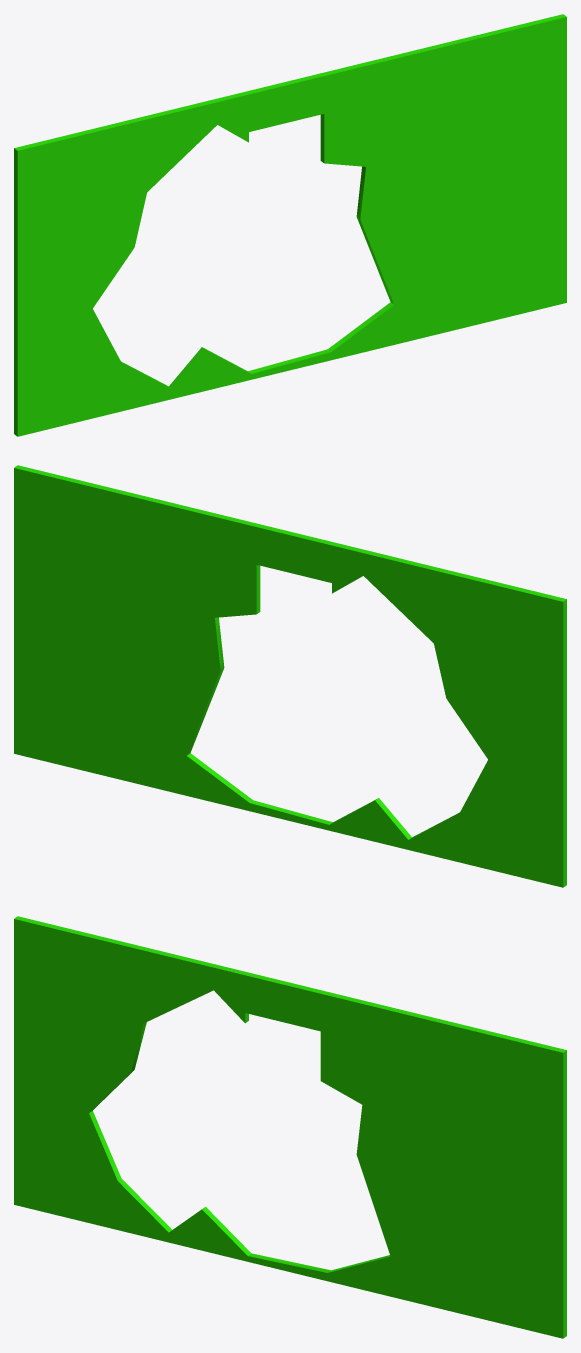
The model's file is BH04B_Wall_03_Break_Collider.fbx.
3 views of the same model, one above another, from view 1: azimuth 30°, elevation 25°; view 2: azimuth 150°, elevation 25°; view 3: azimuth 330°, elevation 25° (orthographic).
Parts seen in each view (by area): view 1: BH04B_Wall_03_Break_Collider; view 2: BH04B_Wall_03_Break_Collider; view 3: BH04B_Wall_03_Break_Collider.
Boxes of the visible parts, x1,y1,x2,y2 form: BH04B_Wall_03_Break_Collider: (14, 14, 566, 436); BH04B_Wall_03_Break_Collider: (14, 465, 566, 887); BH04B_Wall_03_Break_Collider: (14, 916, 566, 1338).
Bounding box in the file's own units: 1207 × 600 × 14.4.
